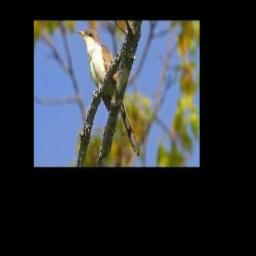Cuckoo: (76, 29, 139, 156)
